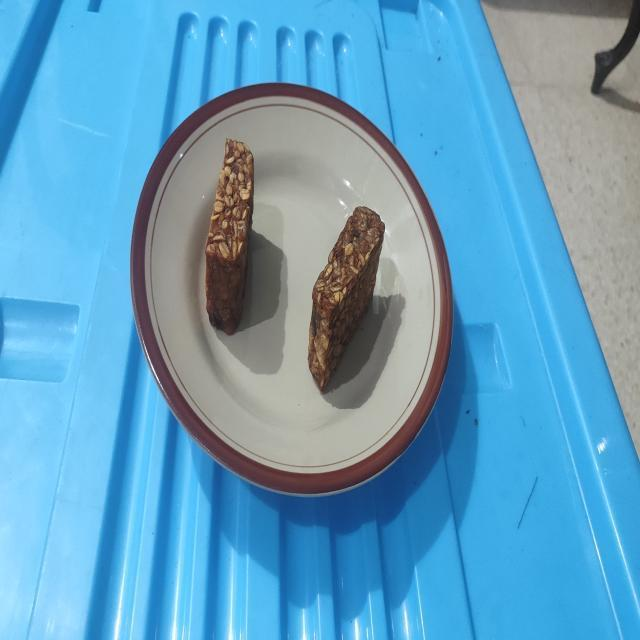tempe_goreng: (308, 207, 385, 390), (206, 138, 253, 334)
